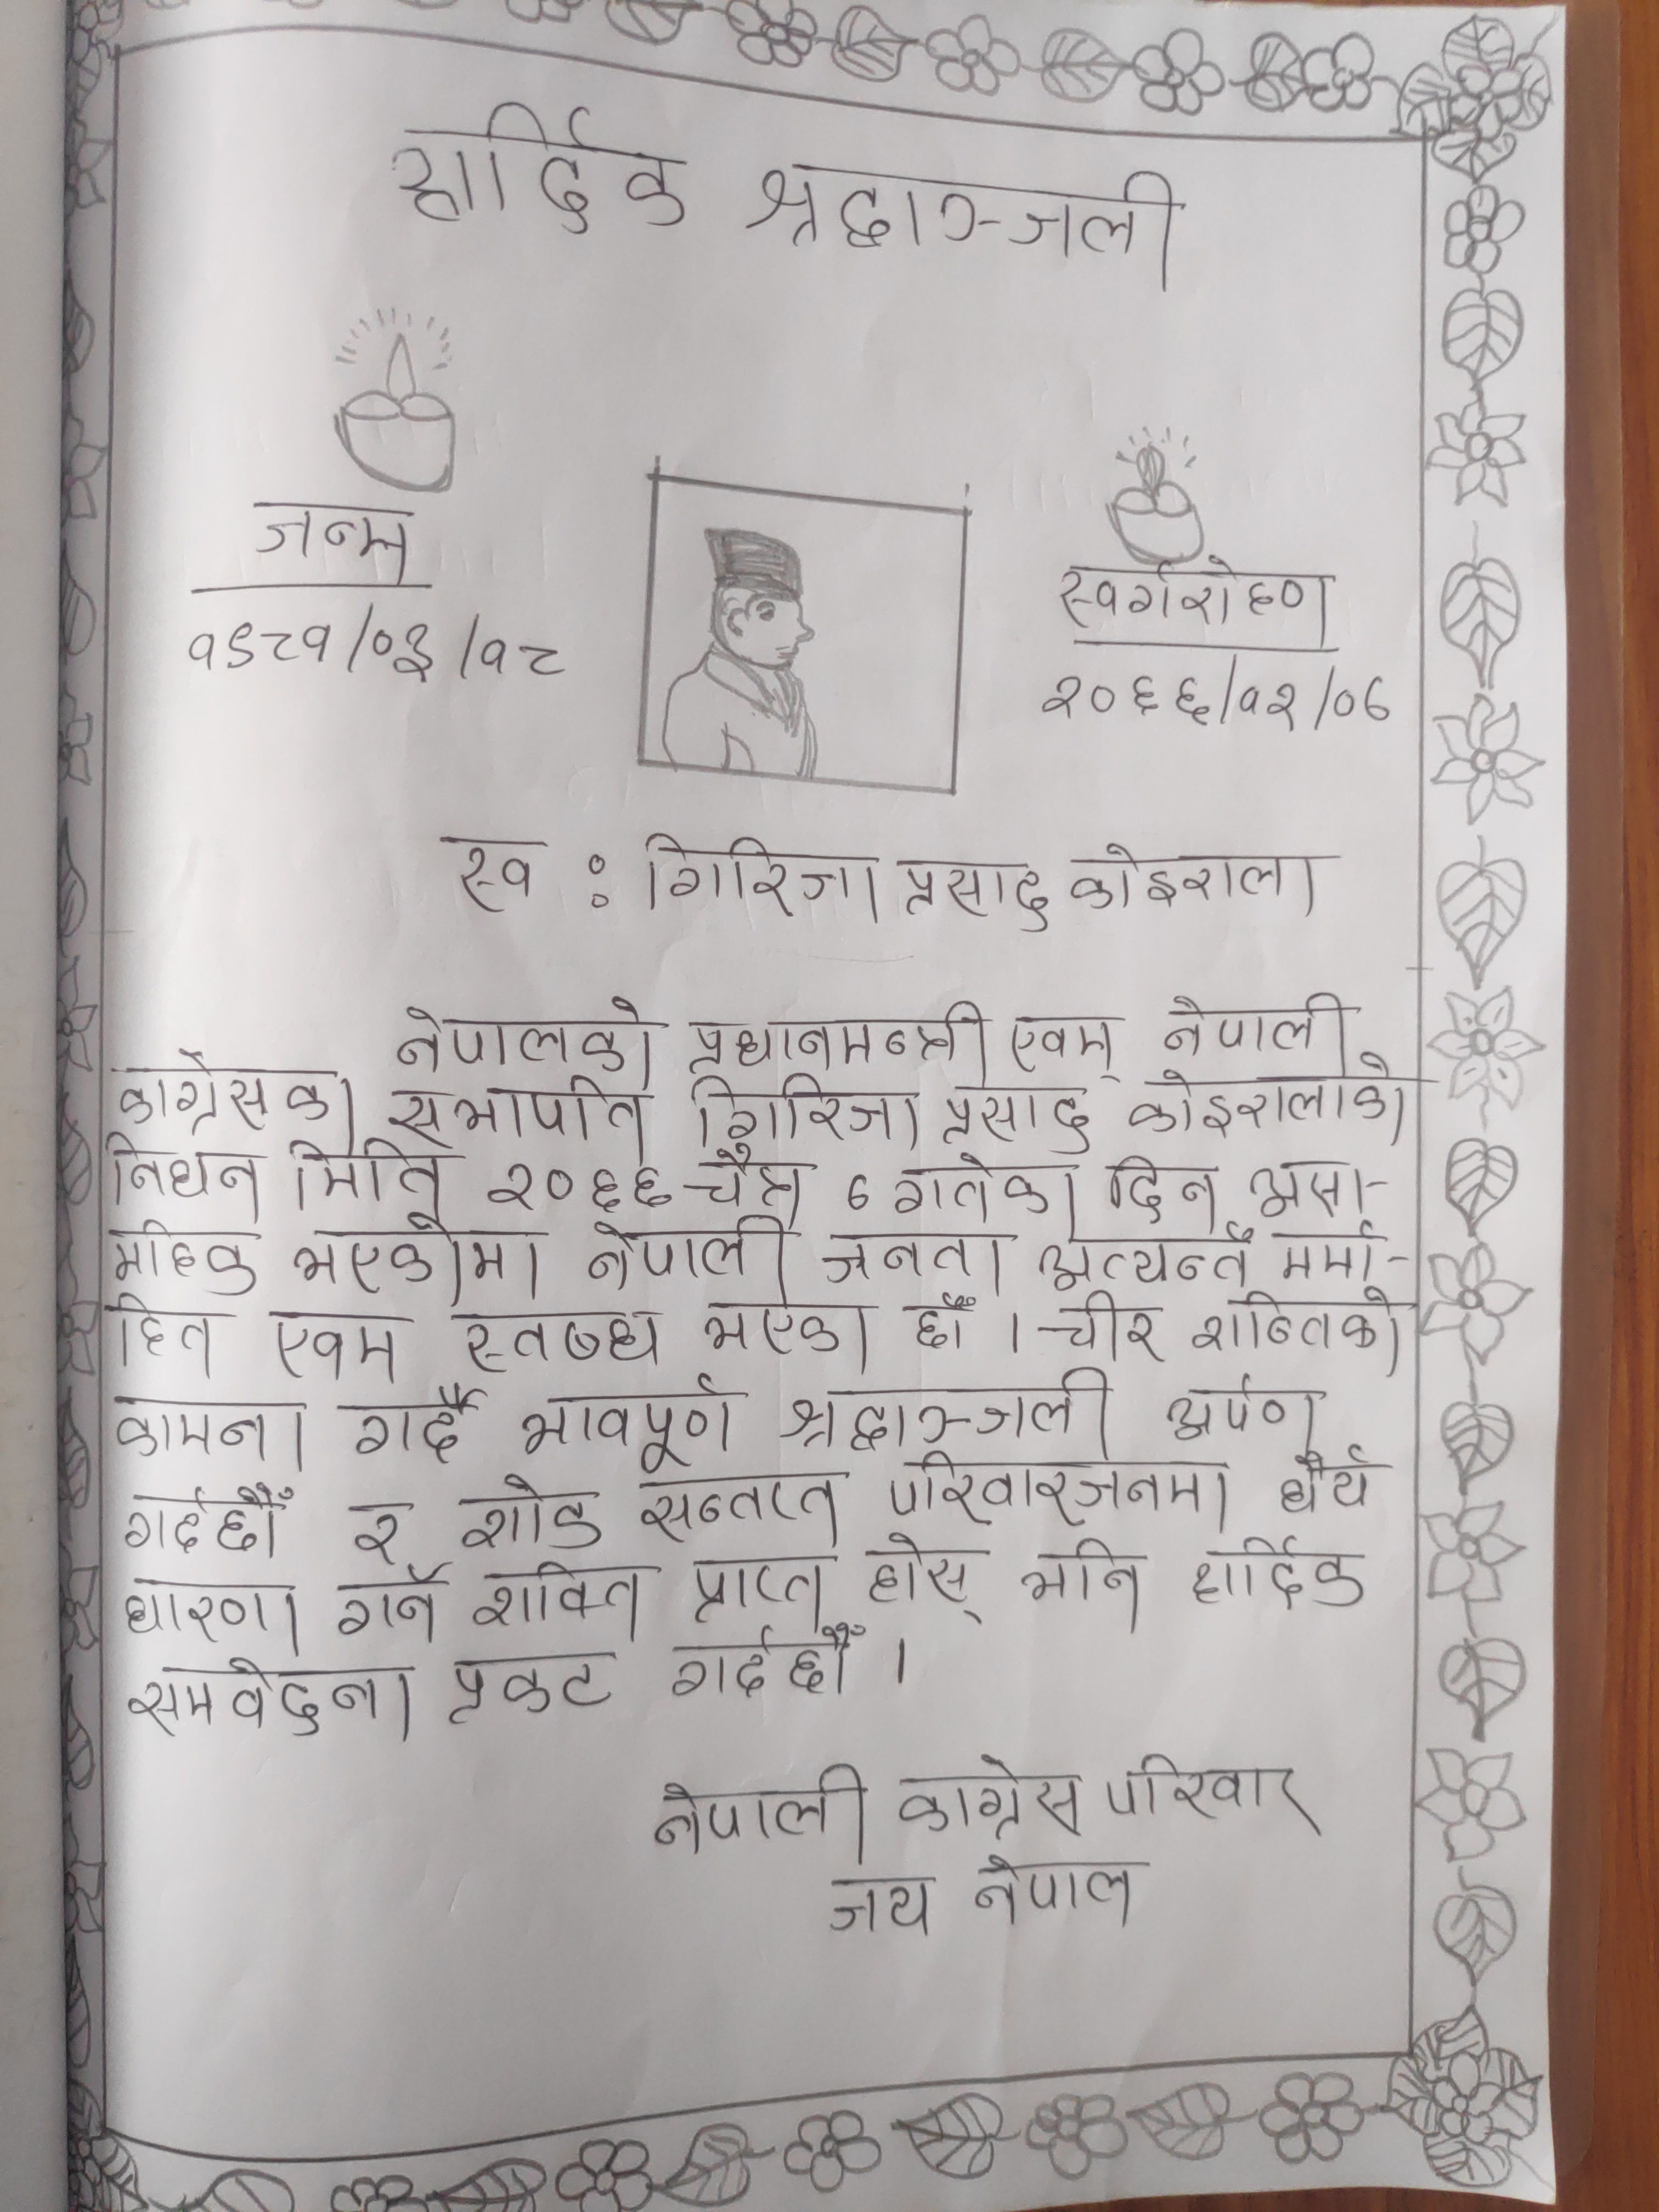text: (746, 148, 1187, 291), (378, 94, 695, 235), (162, 603, 580, 685), (1033, 650, 1396, 737), (775, 1366, 1121, 1453), (882, 1449, 1236, 1533), (636, 826, 889, 934), (120, 1658, 416, 1749), (1042, 556, 1356, 639), (681, 1001, 993, 1082), (286, 1207, 542, 1305), (390, 993, 657, 1076), (110, 1043, 361, 1130), (634, 1763, 870, 1855), (1126, 1064, 1412, 1139), (1066, 841, 1328, 920), (512, 1381, 739, 1470), (894, 1749, 1093, 1848), (390, 1076, 659, 1150), (687, 1073, 929, 1150), (629, 1465, 845, 1548), (1098, 1750, 1319, 1831), (579, 1217, 795, 1299), (692, 1294, 885, 1379), (451, 1305, 669, 1378), (113, 1477, 296, 1564), (889, 1143, 1079, 1226), (1154, 984, 1356, 1061), (237, 495, 422, 578), (1028, 1226, 1253, 1294), (1188, 1291, 1406, 1360), (962, 1848, 1143, 1932), (817, 1219, 1019, 1294), (105, 1390, 307, 1465), (119, 1568, 298, 1651), (462, 1559, 652, 1637), (896, 840, 1051, 935), (1154, 1367, 1321, 1453), (664, 1629, 854, 1703), (1188, 1536, 1370, 1611), (676, 1552, 835, 1630), (101, 1212, 256, 1292), (441, 1653, 617, 1723), (261, 1306, 408, 1388), (448, 1477, 599, 1555), (1025, 1538, 1152, 1625), (939, 1082, 1098, 1150), (479, 1153, 669, 1209), (1239, 1153, 1384, 1226), (436, 822, 545, 918), (108, 1294, 228, 1381), (868, 1531, 979, 1623), (1098, 1148, 1227, 1226), (681, 1150, 819, 1223), (335, 1392, 479, 1460), (329, 1566, 450, 1642), (1040, 1291, 1162, 1362), (823, 1869, 936, 1946), (1006, 1007, 1129, 1076), (1263, 1223, 1387, 1292), (1276, 1449, 1384, 1517), (904, 1285, 981, 1357), (347, 1501, 415, 1569), (840, 1163, 880, 1212)
